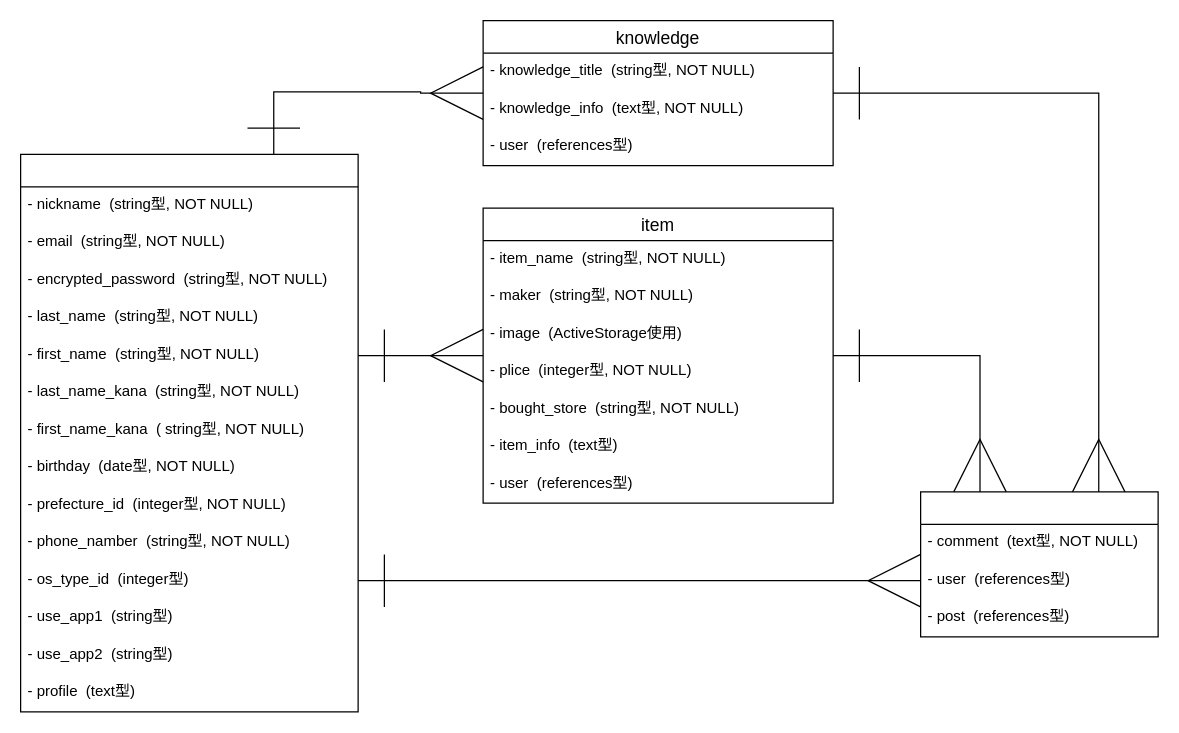
Image size: 1179x733. Some labels were removed from this diagram. The box of each missing label's shape, as (x1, y1, x2, y2) in pixels:
commentsテーブル: (919, 491, 1158, 637)
usersテーブル: (19, 153, 358, 712)
